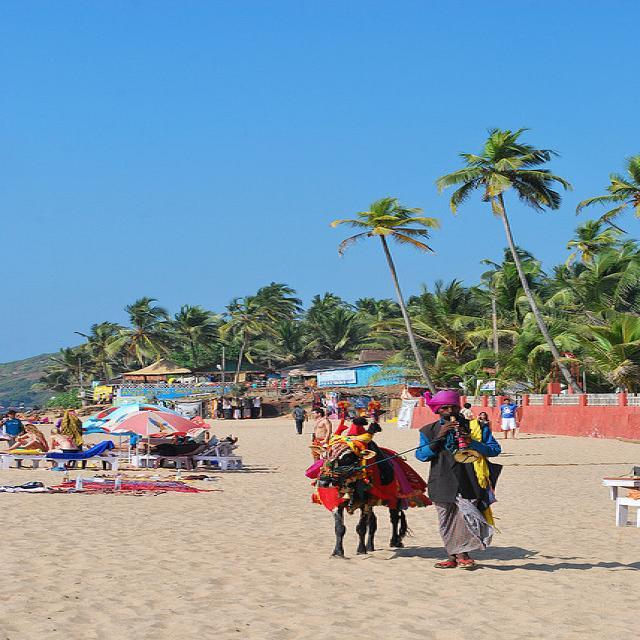cow: (301, 397, 431, 559)
